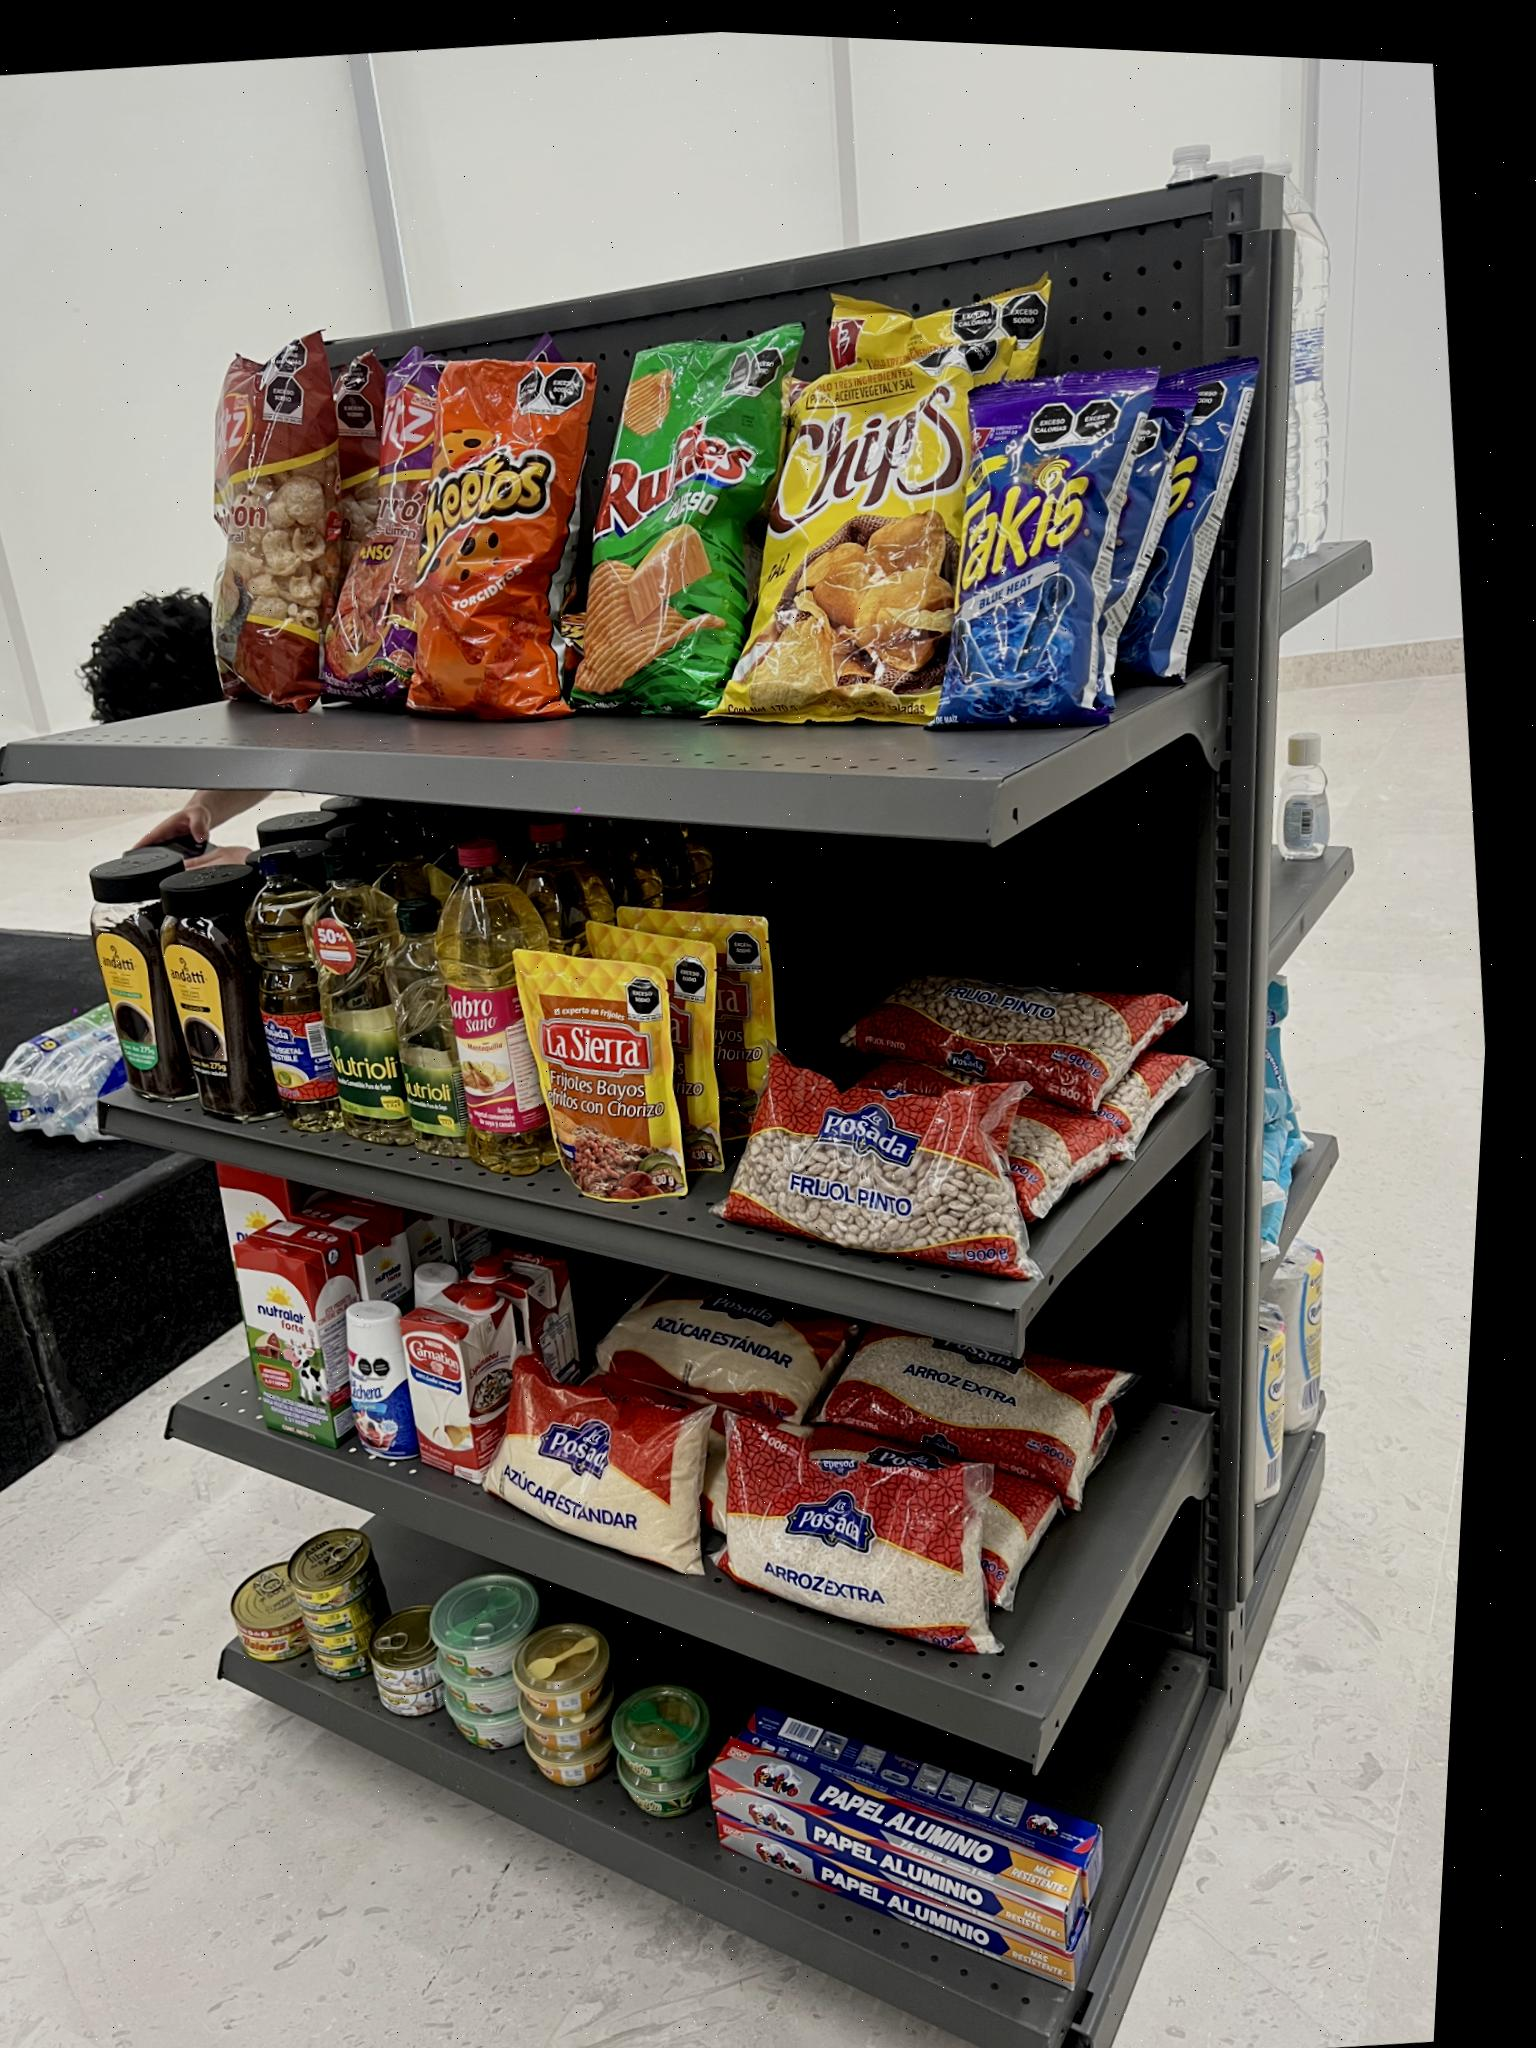aceite_nutrioli_400ml: (374, 889, 476, 1166)
aceite_nutrioli_850ml: (284, 840, 413, 1156)
aceite_posada: (218, 837, 337, 1134)
aceite_saborsano: (407, 832, 549, 1182)
andatti: (140, 863, 269, 1126), (68, 860, 182, 1106)
arroz_laposada: (692, 1379, 1028, 1675)
atun_dolores_blanco: (416, 1580, 531, 1763)
atun_dolores_masdos: (218, 1559, 307, 1672)
atun_dolores_naranja: (490, 1630, 624, 1806)
atun_dolores_normal: (276, 1530, 376, 1690)
atun_mazatun: (350, 1608, 440, 1727)
atun_mazatun_verde: (592, 1682, 712, 1829)
azucar_laposada: (468, 1343, 707, 1585)
carnation: (386, 1317, 490, 1496)
cheetos: (386, 342, 597, 719)
chicharron_bitz_intenso: (319, 368, 442, 697)
chicharron_bitz_natural: (182, 337, 337, 719)
chips_sal: (724, 347, 960, 719)
frijol_laposada: (699, 1016, 1044, 1303)
frijol_lasierra: (494, 924, 708, 1219)
lalechera: (324, 1303, 411, 1463)
leche_nutralatforte: (208, 1227, 347, 1447), (202, 1155, 292, 1259)
papel_aluminio: (713, 1774, 1075, 1996)
ruffles: (570, 329, 797, 710)
takis: (916, 369, 1144, 742)
